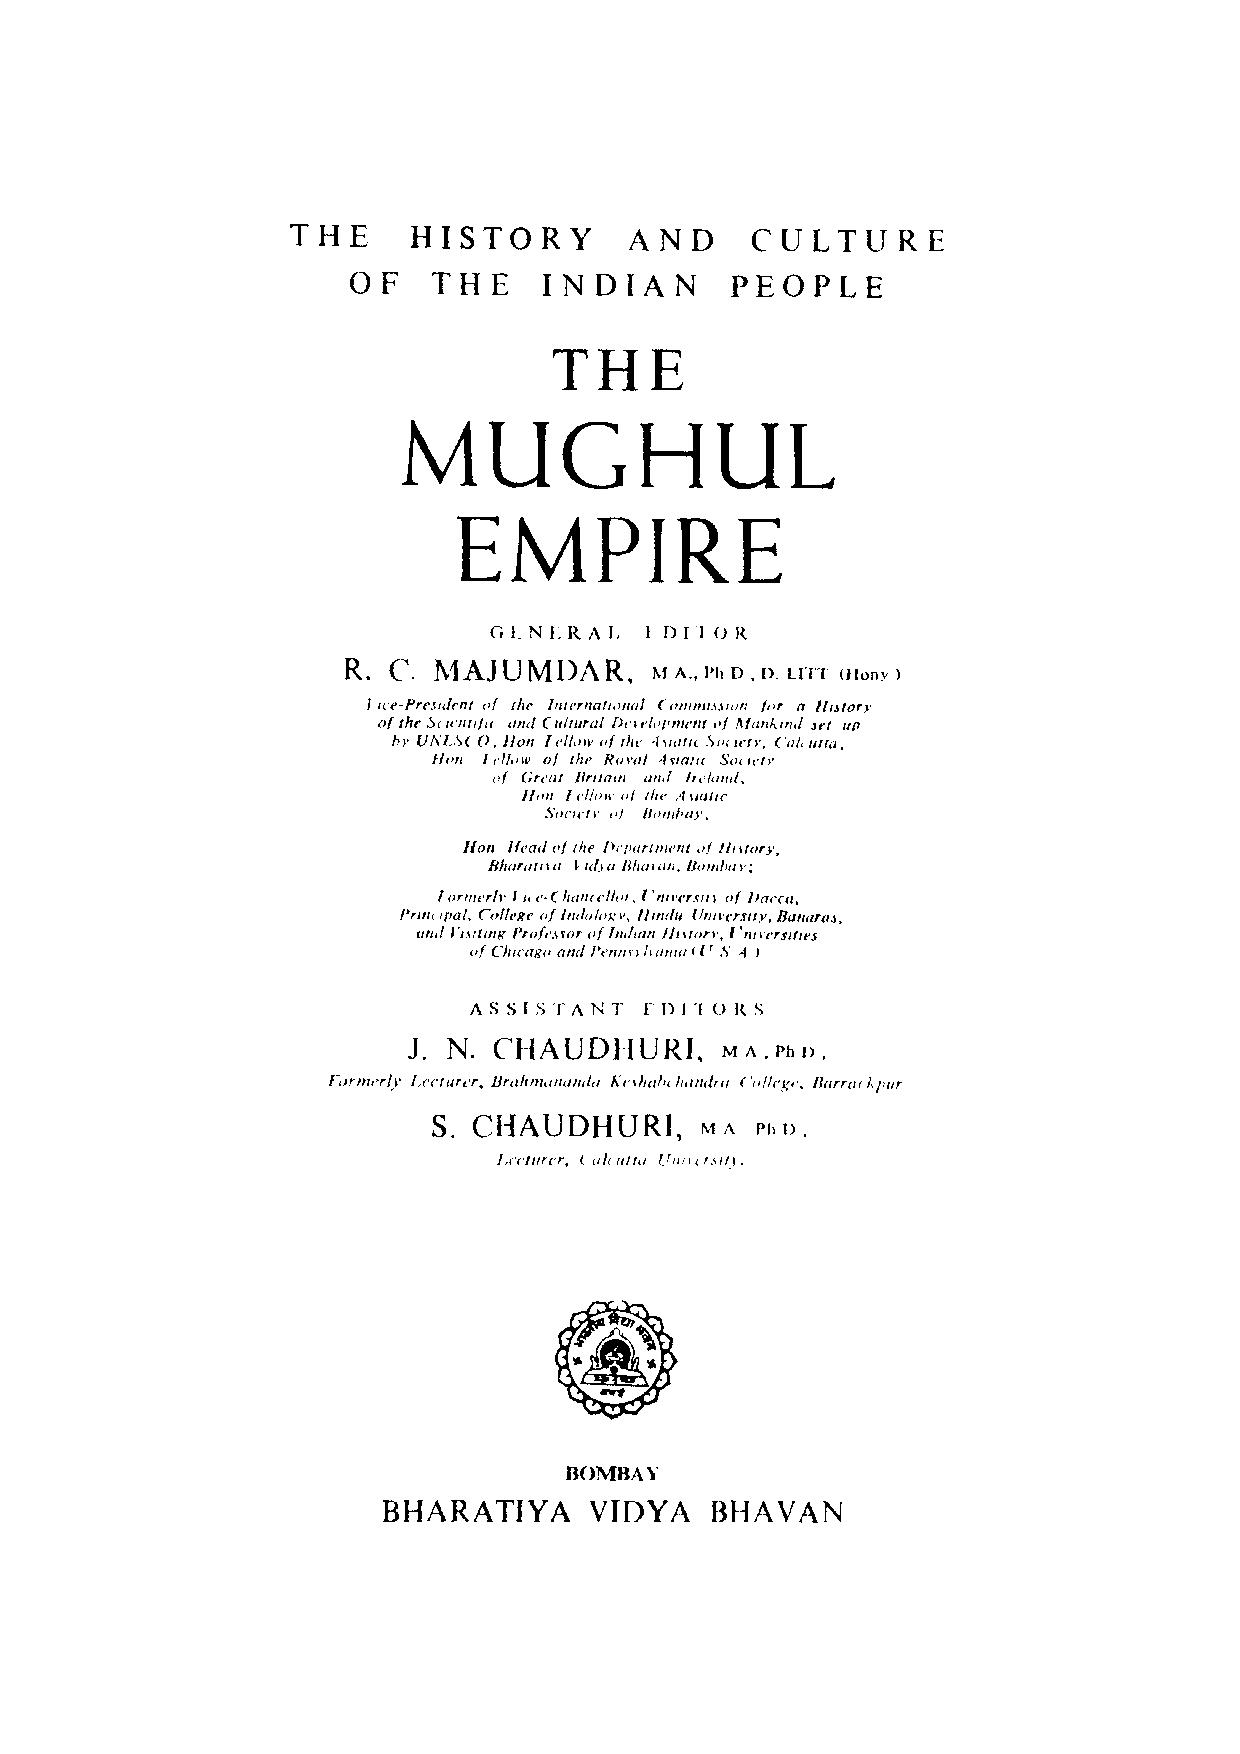author: (340, 652, 902, 684)
title: (395, 346, 836, 585)
